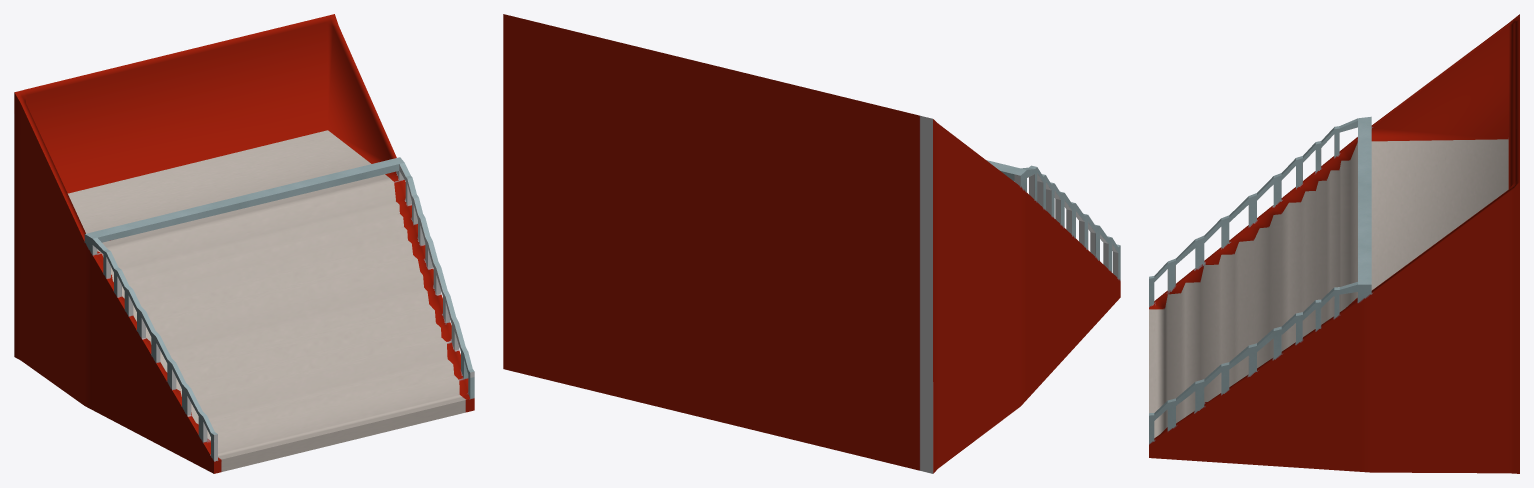
The model's file is ChaosZooCityMapStair.fbx.
The picture shows the model from 3 angles, left to right: view 1: azimuth 30°, elevation 25°; view 2: azimuth 150°, elevation 25°; view 3: azimuth 270°, elevation 25°; orthographic projection. The views are drawn at different scales.
Visible parts, largest first — view 1: pCube8; view 2: pCube8; view 3: pCube8.
Boxes of the visible parts, x1=… form: pCube8: x1=14, y1=14, x2=474, y2=473; pCube8: x1=503, y1=14, x2=1120, y2=473; pCube8: x1=1149, y1=14, x2=1519, y2=473.
Bounding box in the file's own units: 44.35 × 35.02 × 40.7.
